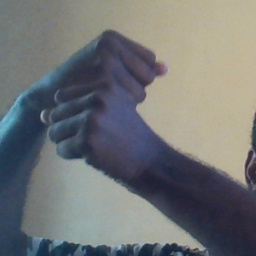G: (40, 27, 171, 167)
